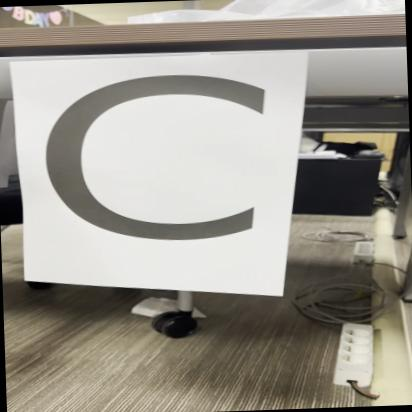seat: (10, 61, 296, 298)
